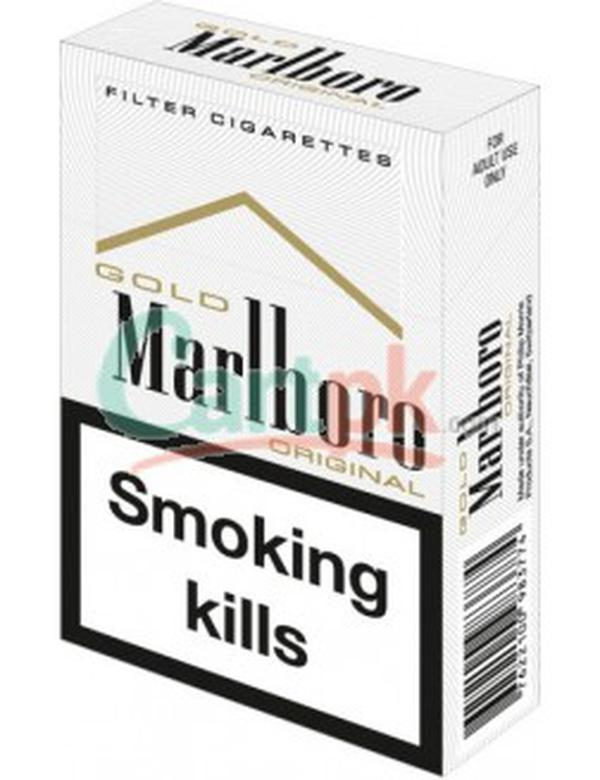marlboro_gold: (68, 62, 448, 647)
